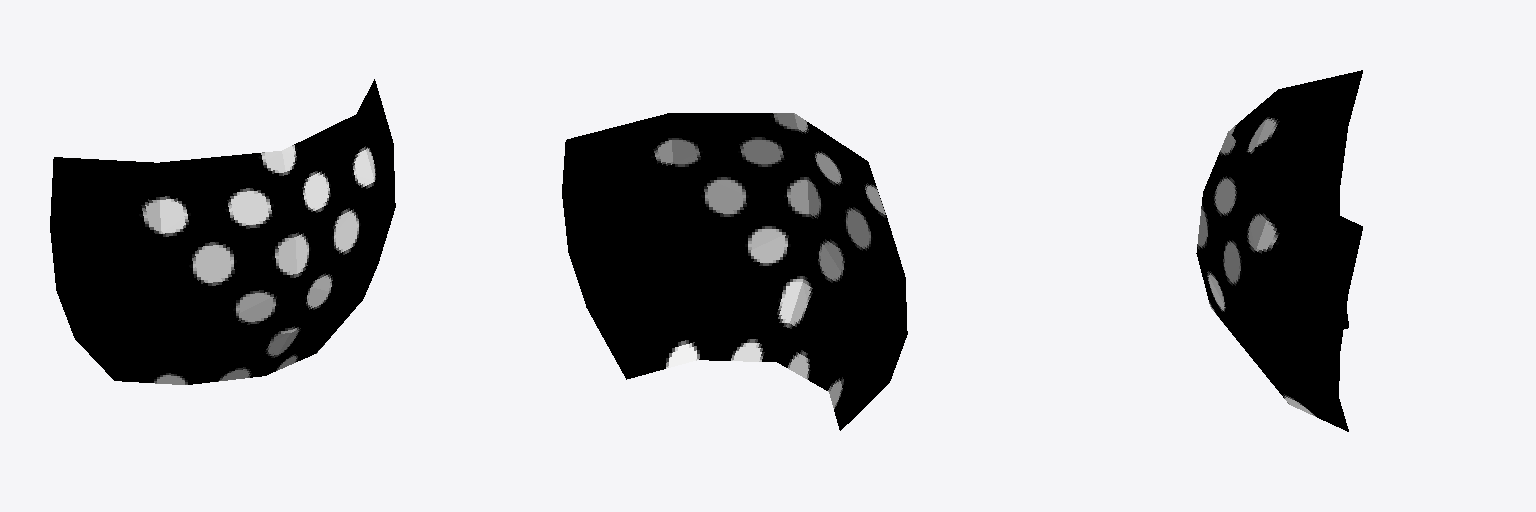
3 views of the same model, side by side, from view 1: azimuth 30°, elevation 25°; view 2: azimuth 150°, elevation 25°; view 3: azimuth 270°, elevation 25° (orthographic).
Parts seen in each view (by area): view 1: polygon0; view 2: polygon0; view 3: polygon0.
Boxes of the visible parts, box(x1,y1,x2,y2) form: polygon0: box(50, 79, 395, 384); polygon0: box(562, 113, 907, 430); polygon0: box(1196, 70, 1362, 431).
Size of the model in its own units: 4.04 by 2.79 by 1.7.
1 materials, 1 textured.